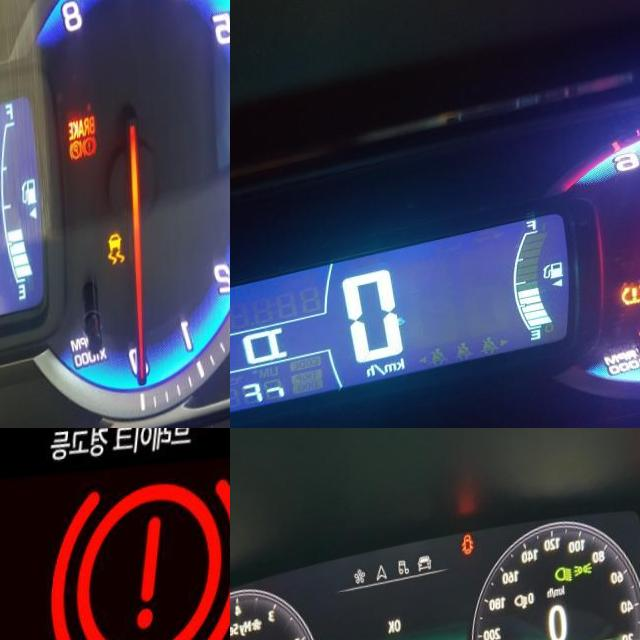Doors: (462, 544, 476, 570)
Low beam: (556, 580, 574, 605)
SideLamp: (574, 577, 596, 597)
